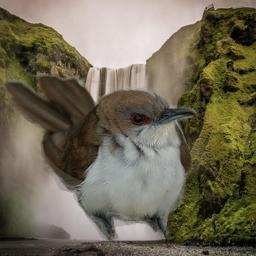Cuckoo: (3, 73, 199, 248)
